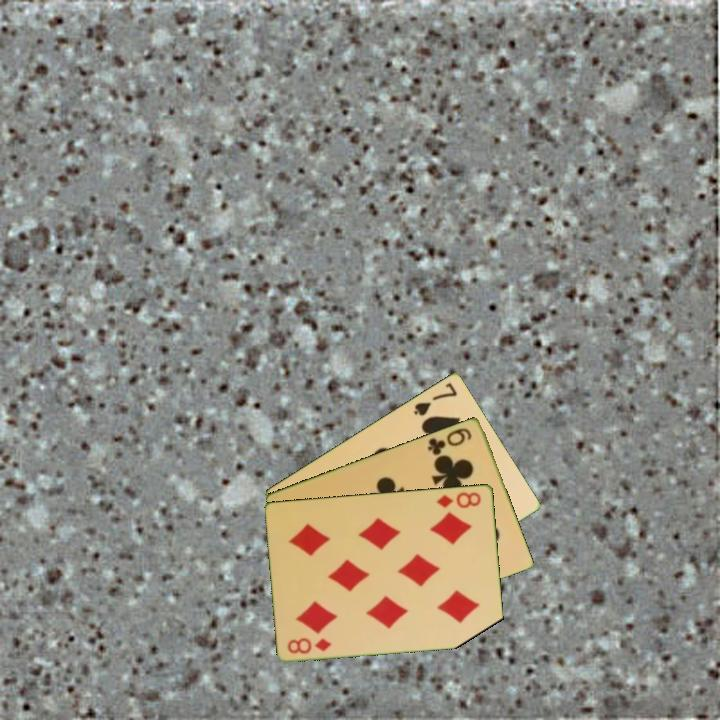6c: (424, 424, 475, 458)
7s: (410, 378, 460, 419)
8d: (433, 488, 484, 510), (284, 634, 335, 656)
